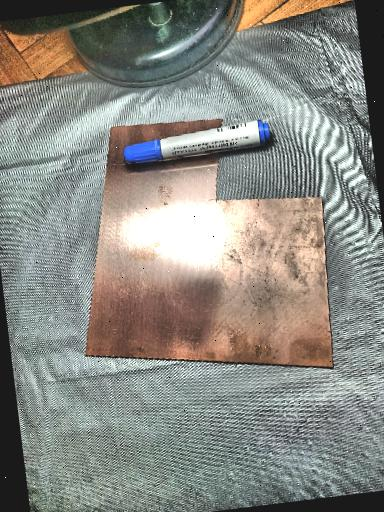marcador azul: (123, 120, 269, 164)
